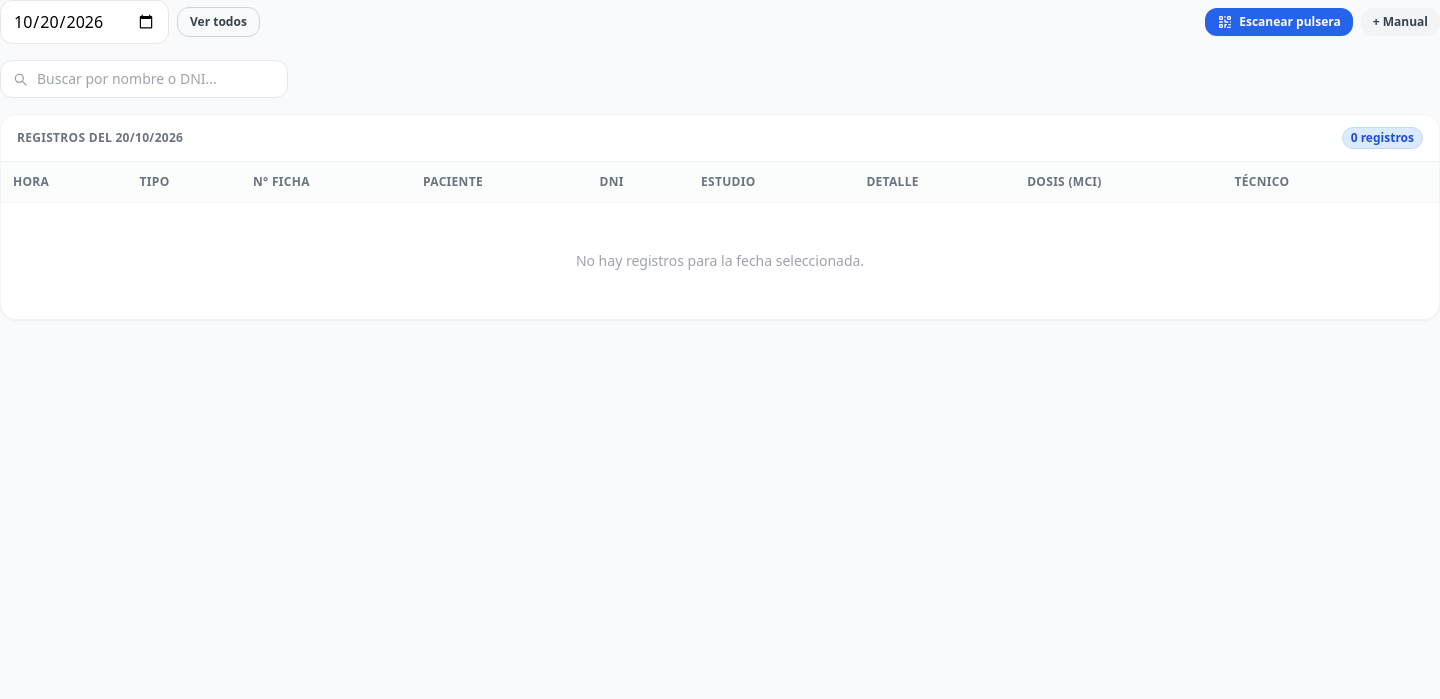
it: TabPacientes -- Gestión I-131, Dosis de barrido corporal no muestra 'Dosis relacionada' › Dosis de barrido corporal: sin 'Dosis relacionada', con Actividad administrada en mCi (no µCi -- bug real corregido)
Click the button "+ Manual": [1400, 22] box [1361,8,1439,36]
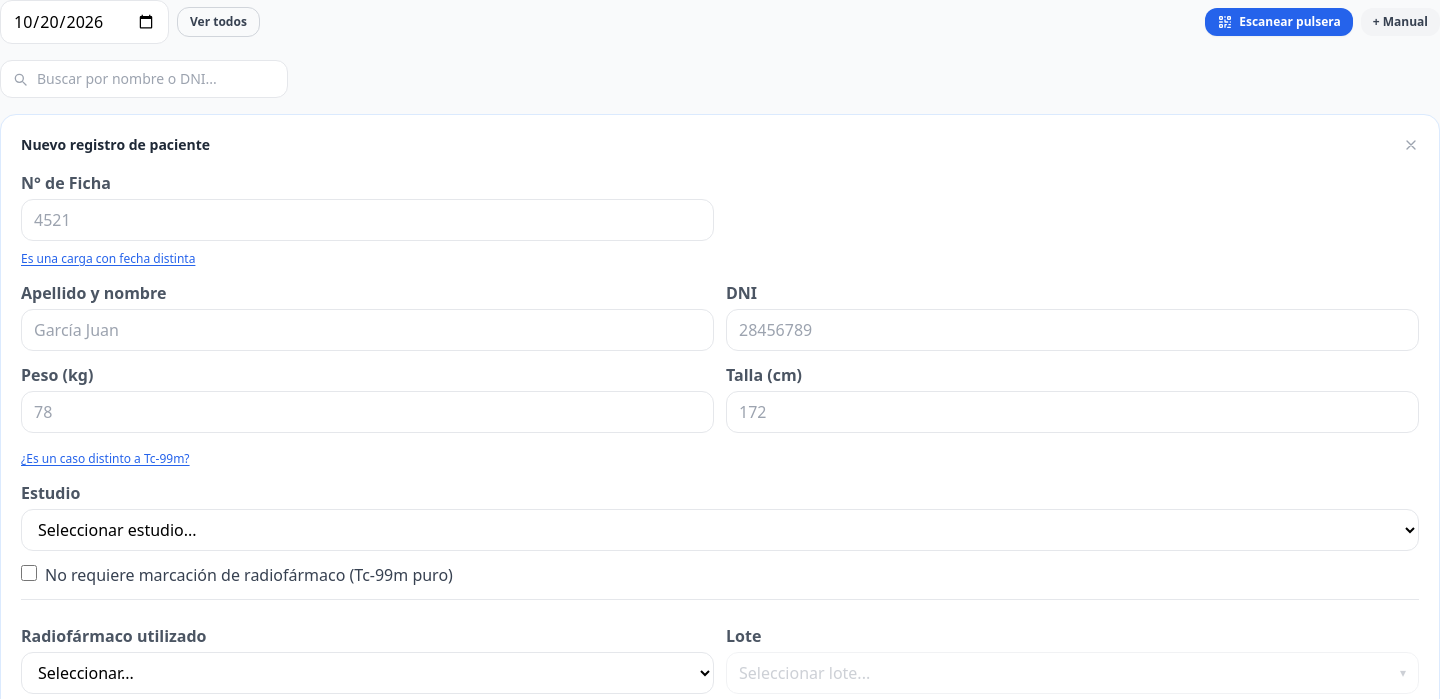
Click the button "¿Es un caso distinto a Tc-99m?": [105, 459] box [21,451,190,467]
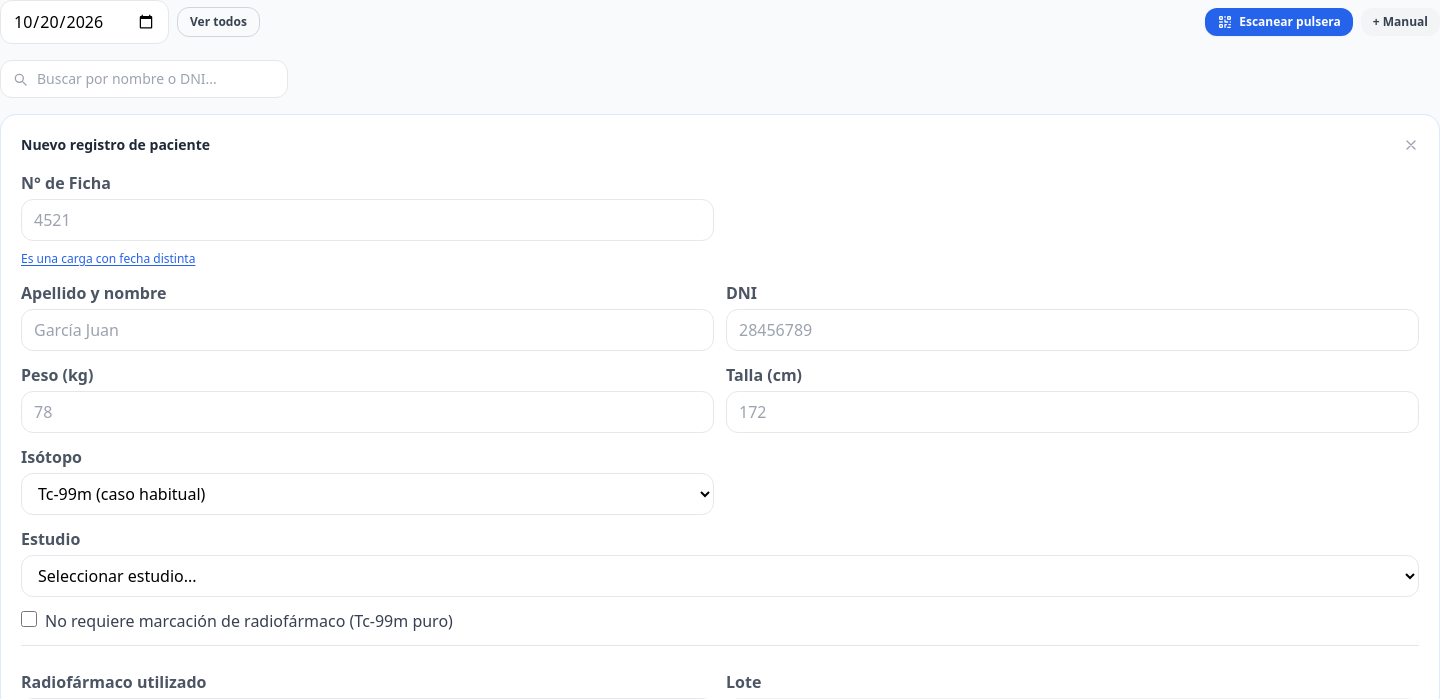
Select "I-131" in the dropdown below "Isótopo": [368, 494] box [21,473,714,515]
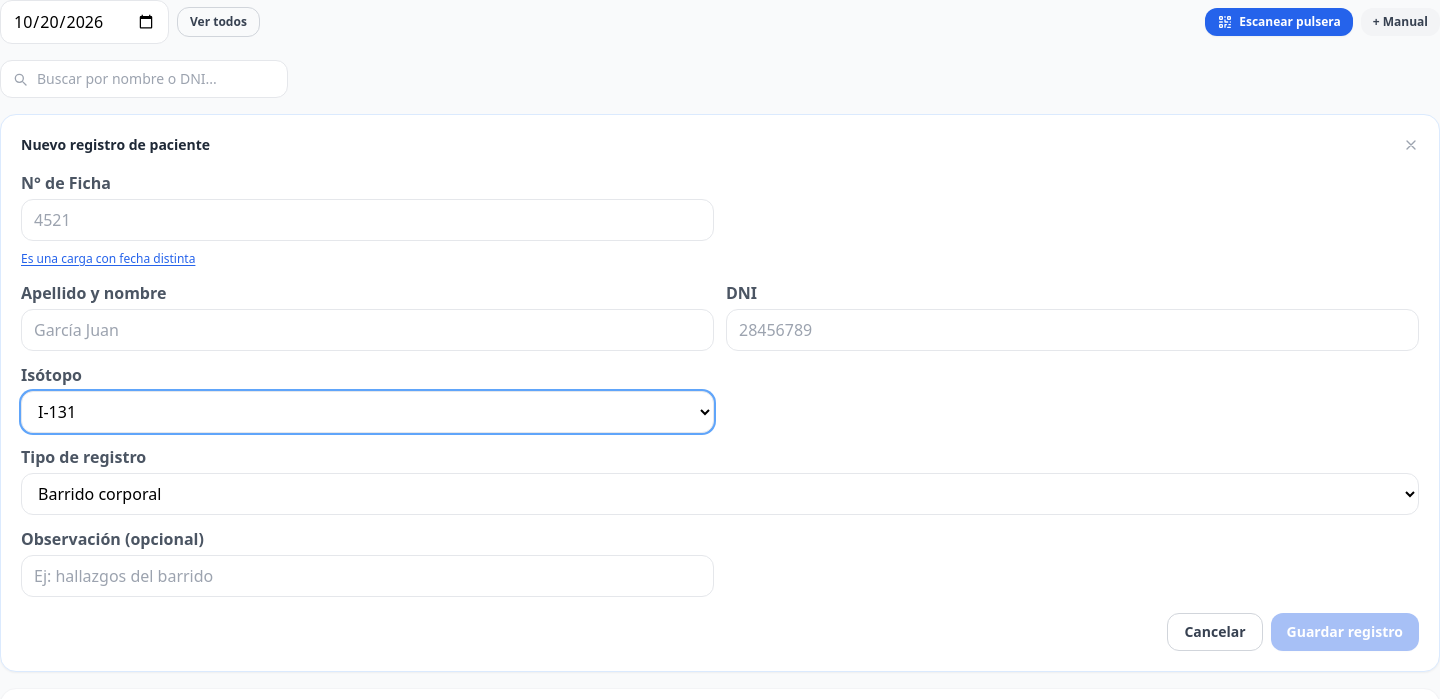
Select "Dosis de barrido corporal" in the dropdown below "Tipo de registro": [720, 494] box [21,473,1419,515]
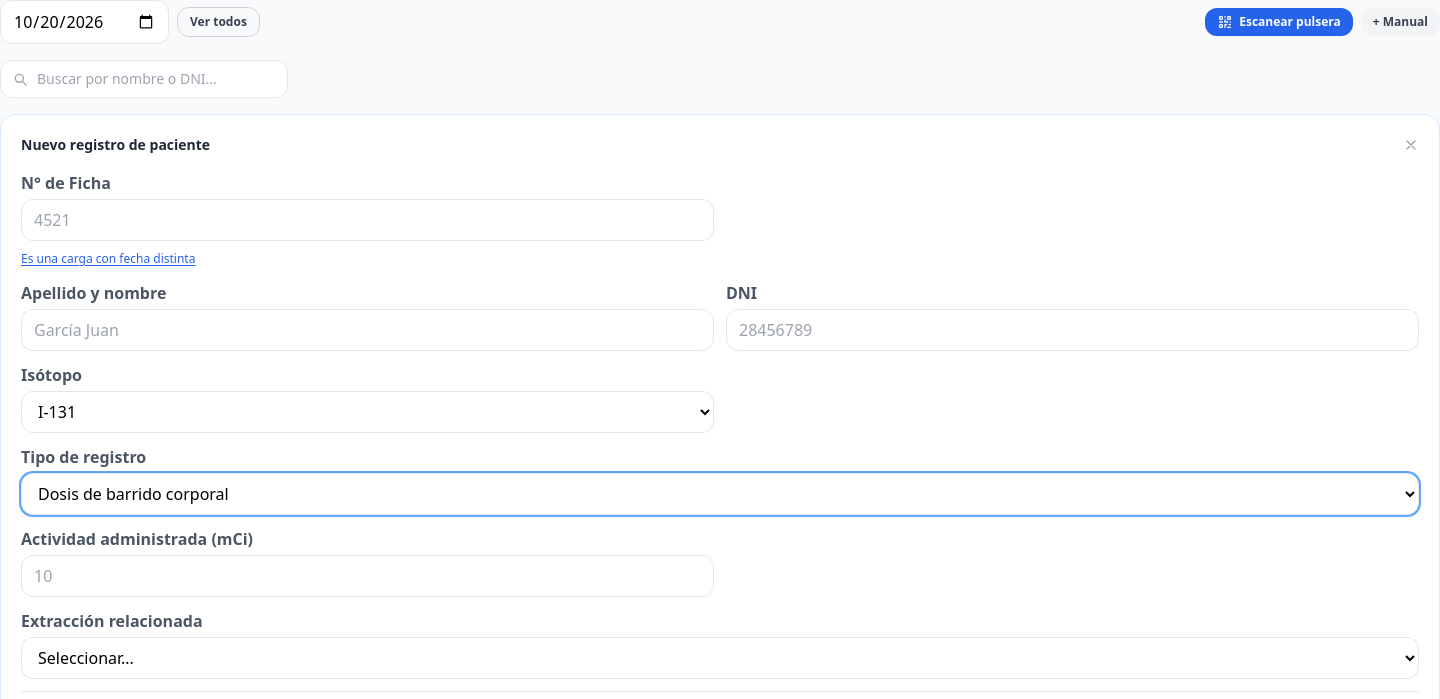
Check: the text "Actividad administrada (mCi)" is shown, box [21,528,253,550]
